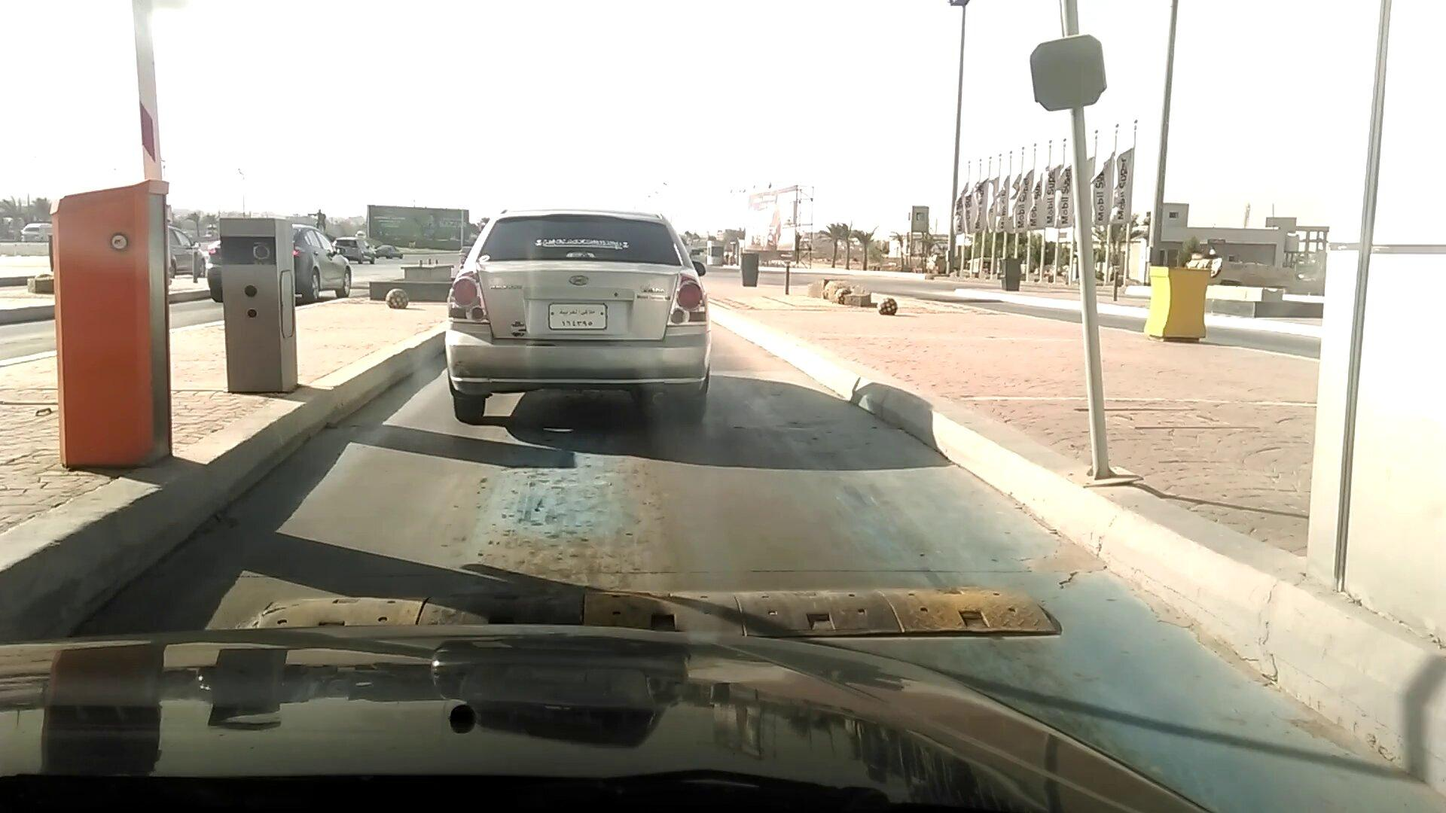Bump: (253, 580, 1067, 641)
